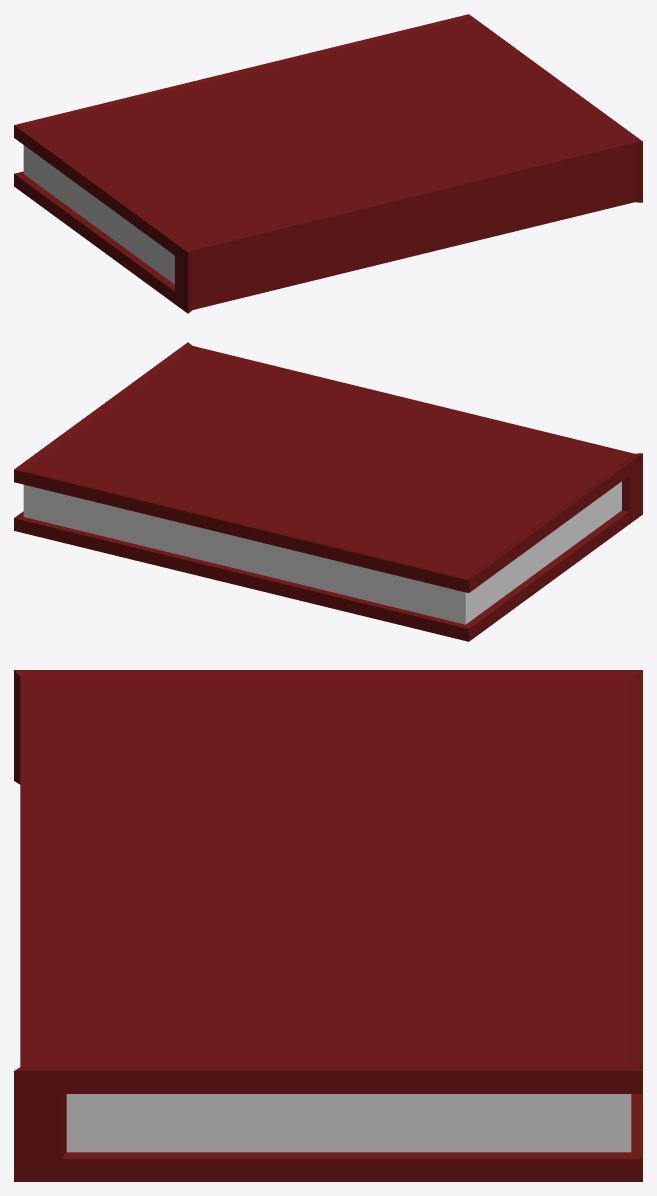
The picture shows the model from 3 angles, top to bottom: view 1: azimuth 30°, elevation 25°; view 2: azimuth 150°, elevation 25°; view 3: azimuth 270°, elevation 25°; orthographic projection. The views are drawn at different scales.
Parts seen in each view (by area): view 1: Cube; view 2: Cube; view 3: Cube.
Part boxes in pixels (left/top/right/bottom): Cube: left=14, top=14, right=642, bottom=313; Cube: left=14, top=342, right=642, bottom=641; Cube: left=14, top=670, right=642, bottom=1181.
Size of the model in its own units: 206 by 26.52 by 136.
